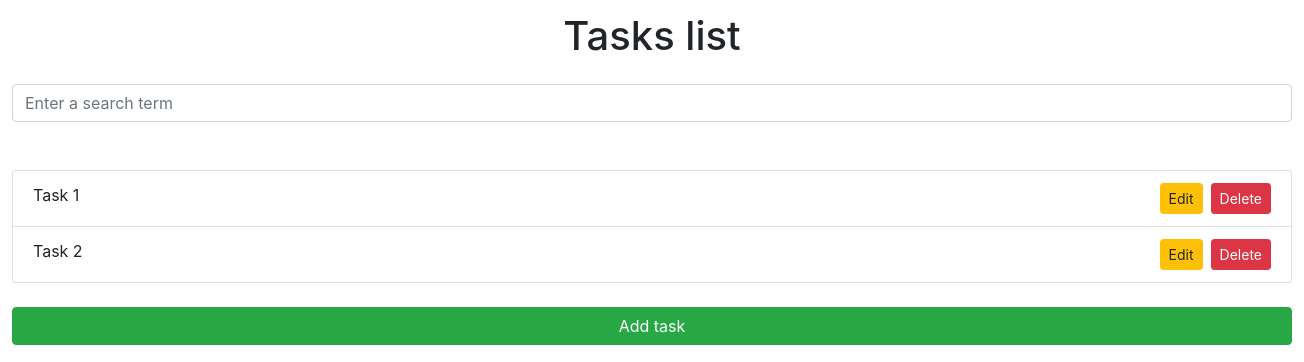
it: Tasks › should filter tasks when query is filled and restore them when query is emptied
This screenshot has width=1304, height=362.
Type "2" into the field with placeholder "Enter a search term" at (652, 103), box [12,84,1292,122]
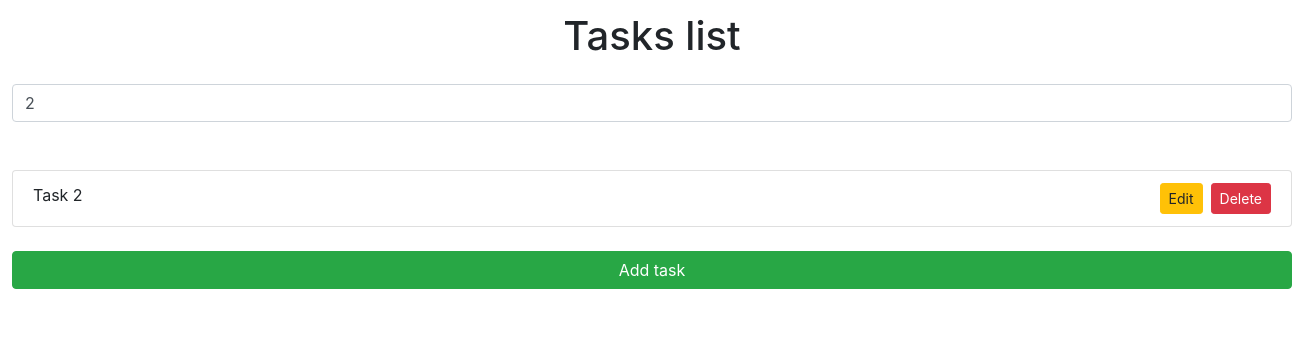
Now the list item "Task 2 Edit Delete" is shown, box [12,170,1292,227]
Clear the field at (652, 103), box [12,84,1292,122]
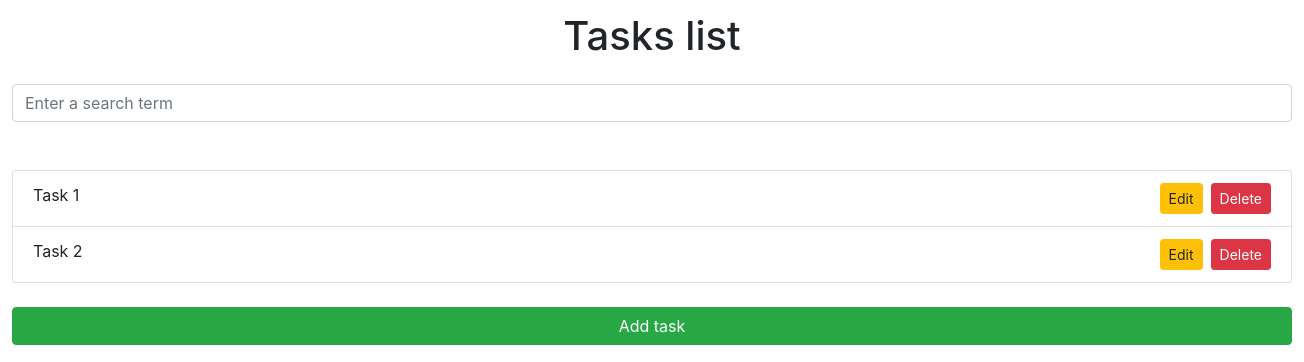
Expected: the list item "Task 2 Edit Delete" is shown, [12,227,1292,283]
Now the list item "Task 1 Edit Delete" is shown, box [12,170,1292,227]
